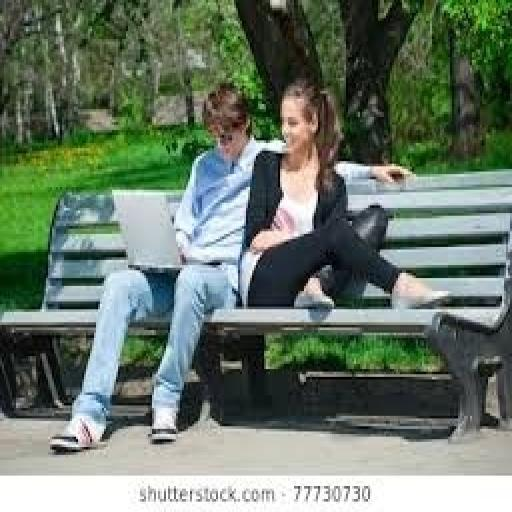sitting: (48, 78, 270, 452), (236, 75, 452, 312)
